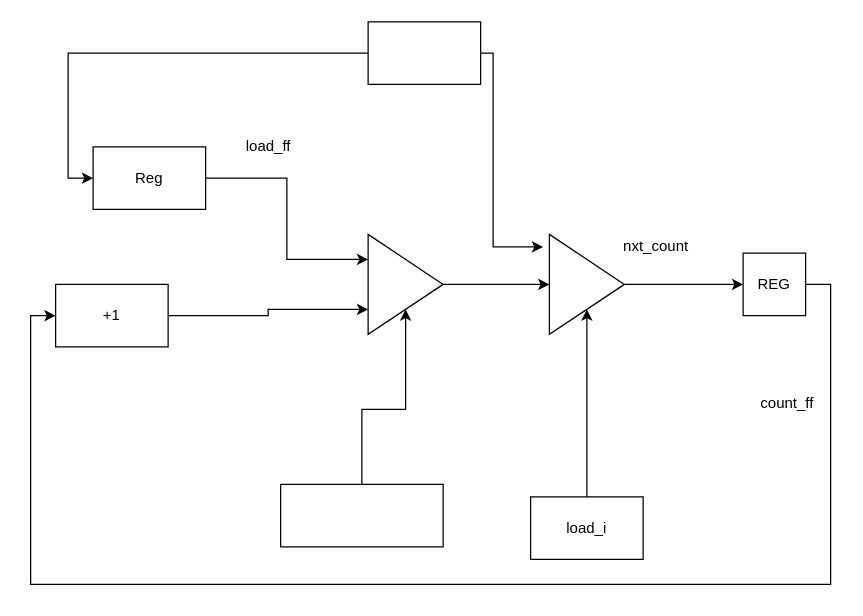
Image size: 863x616. Some labels were removed from this diagram. Each missing label, with the centre of its shape:
"count_ff == 4'hf" goes at (361,515).
"Load_val_i" goes at (424,52).
